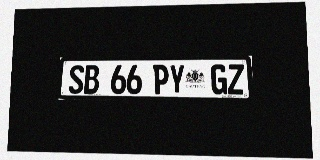6: (126, 65, 142, 94), (111, 65, 126, 94)
B: (84, 65, 99, 94)
G: (211, 64, 227, 94)
P: (153, 65, 168, 94)
S: (69, 65, 84, 94)
Y: (169, 64, 185, 94)
Z: (227, 64, 244, 94)
